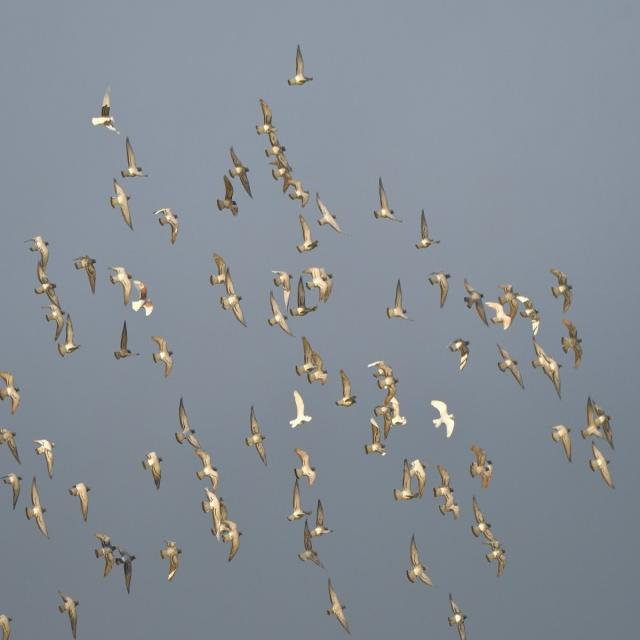bird: (205, 487, 244, 562), (212, 256, 246, 328), (43, 301, 81, 354), (530, 340, 564, 396), (294, 338, 330, 389), (404, 530, 434, 589), (582, 396, 617, 446), (25, 474, 51, 539), (432, 464, 462, 518), (174, 397, 202, 450), (314, 192, 346, 238), (325, 576, 350, 634), (246, 406, 270, 466), (110, 263, 145, 304), (494, 342, 523, 391), (558, 320, 586, 370), (377, 391, 408, 436), (302, 267, 336, 307), (266, 288, 294, 336), (372, 176, 402, 220), (55, 590, 83, 637), (394, 461, 426, 502), (548, 267, 576, 313), (255, 99, 283, 145), (298, 524, 326, 570), (157, 536, 184, 583), (468, 444, 496, 489), (468, 496, 496, 541), (413, 208, 443, 250), (191, 446, 221, 488), (590, 442, 616, 490), (229, 146, 255, 194), (305, 496, 333, 540), (287, 388, 316, 430), (91, 88, 118, 133), (286, 46, 315, 87), (122, 135, 148, 180), (150, 337, 177, 380), (462, 276, 489, 319), (368, 358, 401, 393), (112, 180, 135, 230), (384, 277, 412, 318), (72, 249, 98, 293), (487, 296, 517, 334), (30, 438, 58, 478), (25, 231, 53, 271), (292, 212, 319, 253), (446, 594, 471, 638), (114, 552, 139, 595), (550, 421, 576, 462), (68, 479, 94, 520), (266, 153, 294, 191), (284, 479, 308, 523), (427, 268, 452, 310), (430, 398, 456, 438), (155, 206, 181, 246), (292, 446, 318, 486), (362, 418, 388, 458), (517, 296, 543, 336), (0, 371, 23, 416), (111, 320, 136, 361), (216, 176, 240, 218), (1, 471, 27, 509), (483, 540, 509, 578), (334, 370, 359, 409), (283, 178, 311, 212), (447, 335, 473, 371), (142, 448, 166, 487), (94, 536, 115, 579), (0, 422, 22, 462), (34, 269, 58, 300), (270, 268, 294, 296), (1, 608, 15, 640)
